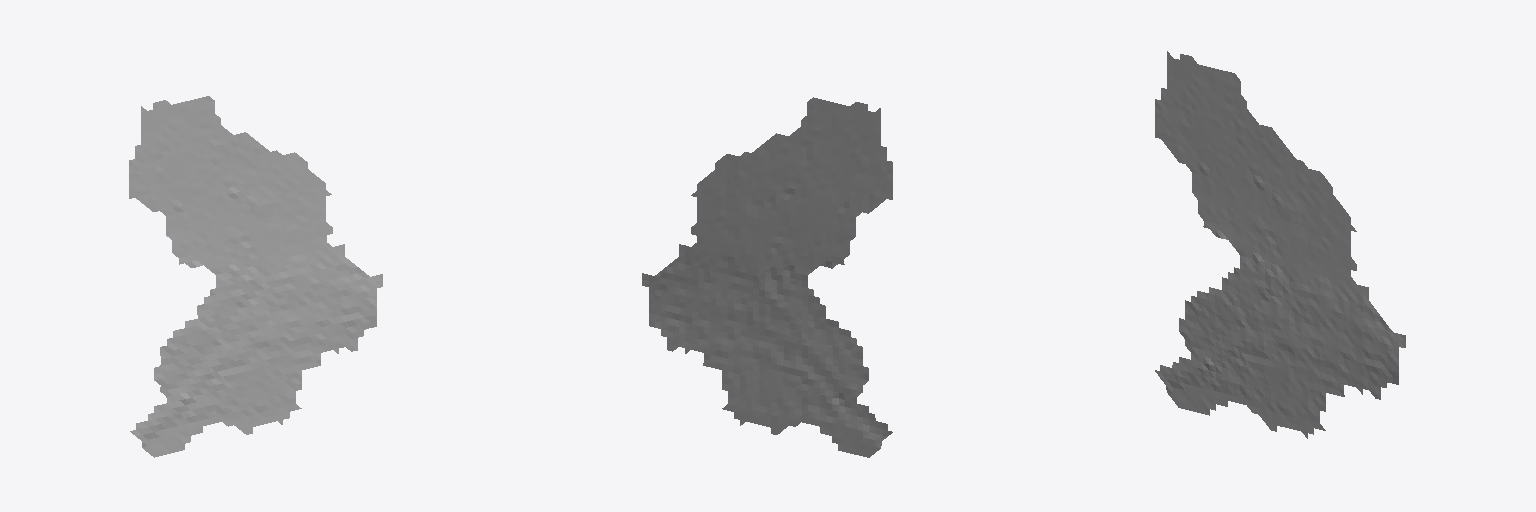
Rendered from DEBKGNU20000006G.obj.
The picture shows the model from 3 angles: view 1: azimuth 30°, elevation 25°; view 2: azimuth 150°, elevation 25°; view 3: azimuth 330°, elevation 25°; orthographic projection.
Size of the model in its own units: 41000 by 55000 by 628.